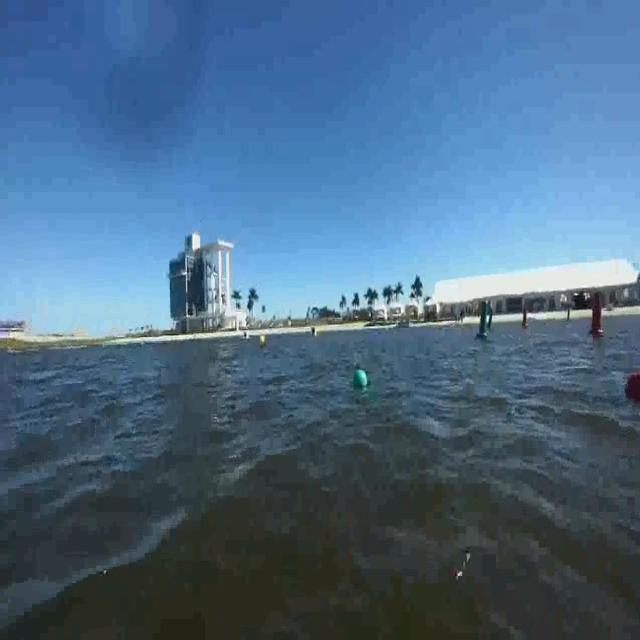green-buoy: (353, 370, 367, 389)
green-column-buoy: (477, 300, 492, 341)
red-column-buoy: (587, 298, 602, 339), (521, 304, 530, 330)
yellow-buoy: (261, 335, 269, 348)
